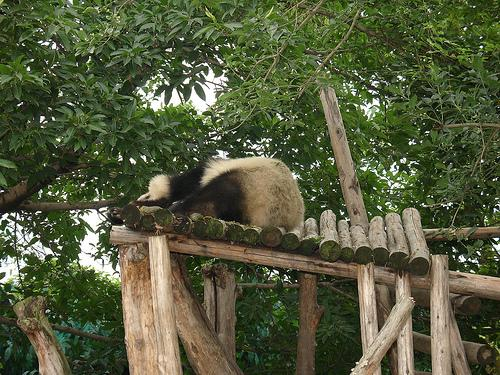panda: (136, 157, 304, 231)
